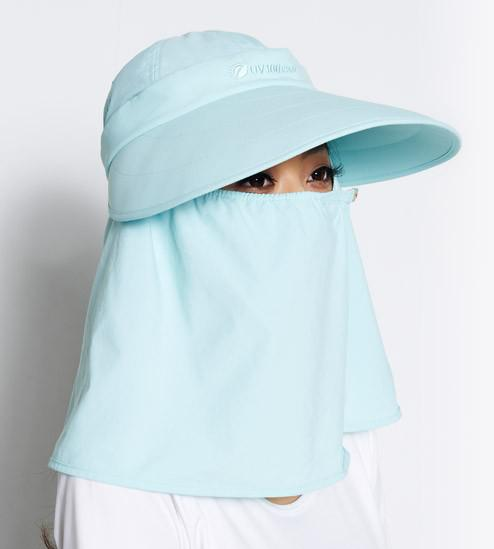OK: (199, 145, 349, 327)
